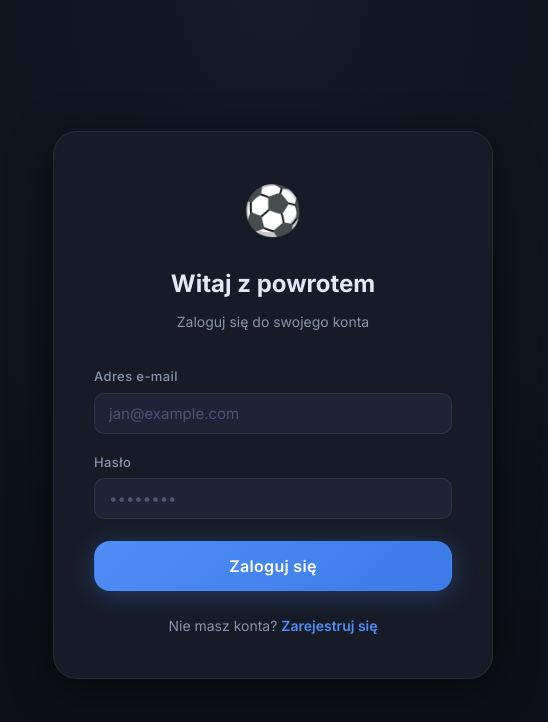
Scenario: Test 2: LoginPage pokazuje błąd gdy formularz wysłany jest bez danych
Click the button "Zaloguj się": x=273, y=566 [94,541,452,591]
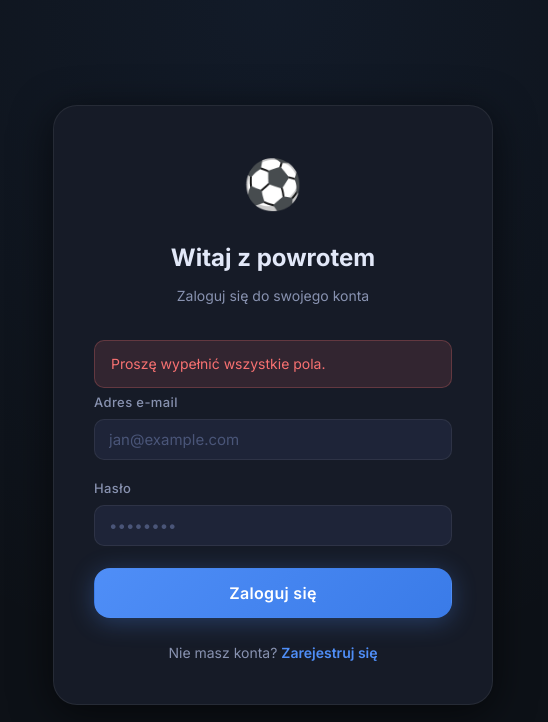
Expected: the text "Proszę wypełnić wszystkie pola." is shown, [94,340,452,388]
